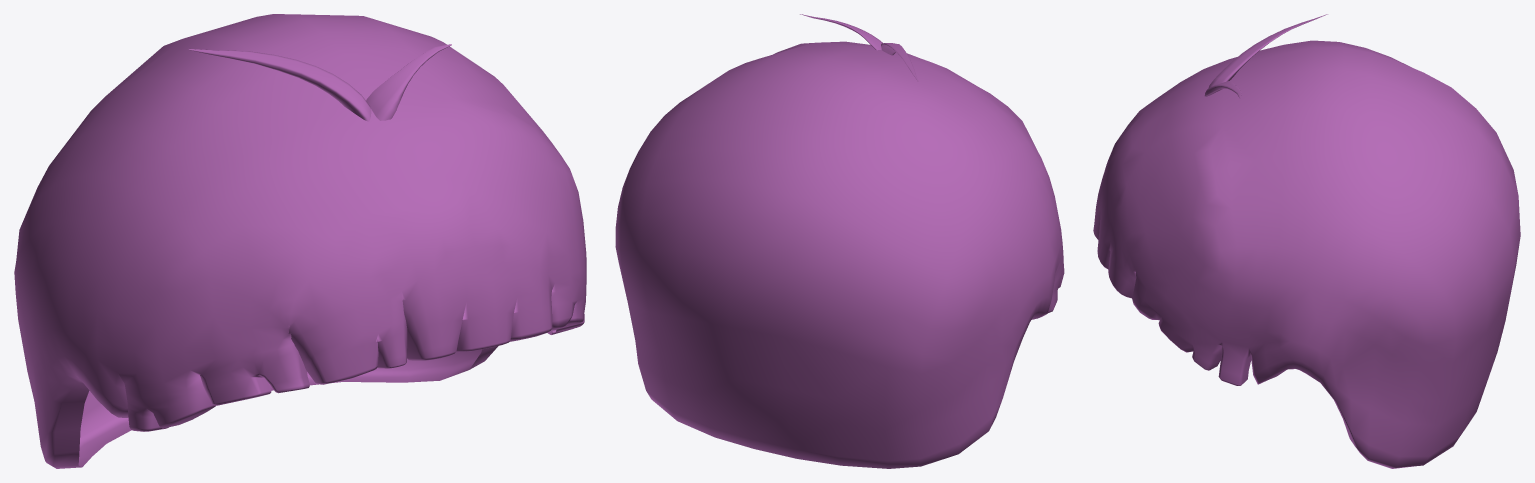
The model's file is hair11.glb.
3 renders of one model, left to right at view 1: azimuth 30°, elevation 25°; view 2: azimuth 150°, elevation 25°; view 3: azimuth 270°, elevation 25°, orthographic. The views are drawn at different scales.
Visible parts, largest first — view 1: Hair11; view 2: Hair11; view 3: Hair11.
Part boxes in pixels (x1,y1,x2,y2): Hair11: [14, 14, 586, 468]; Hair11: [615, 14, 1064, 468]; Hair11: [1093, 14, 1520, 468].
Size of the model in its own units: 0.00912 by 0.00774 by 0.00858.
